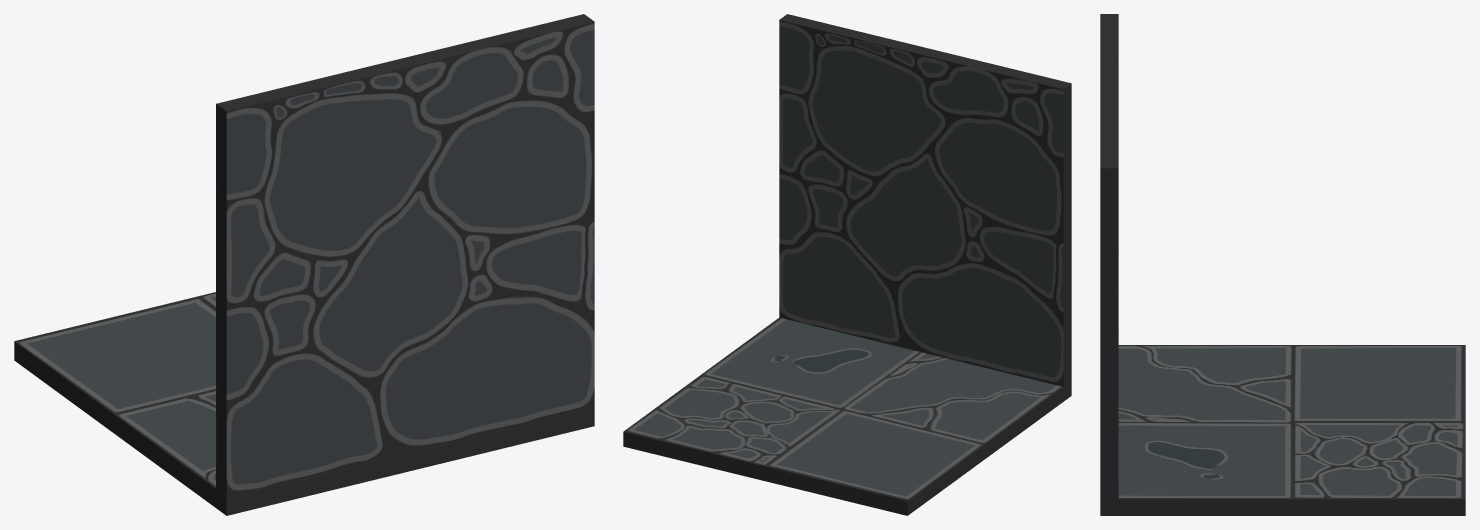
File: Wall-S_v1.1.fbx
3 views of the same model, side by side, from view 1: azimuth 30°, elevation 25°; view 2: azimuth 150°, elevation 25°; view 3: azimuth 270°, elevation 25° (orthographic). The views are drawn at different scales.
Visible parts, largest first — view 1: Wall-S; view 2: Wall-S; view 3: Wall-S.
Boxes of the visible parts, x1,y1,x2,y2 form: Wall-S: (14, 14, 594, 515); Wall-S: (623, 14, 1071, 515); Wall-S: (1100, 14, 1465, 515).
Bounding box in the file's own units: 100 × 100 × 105.
